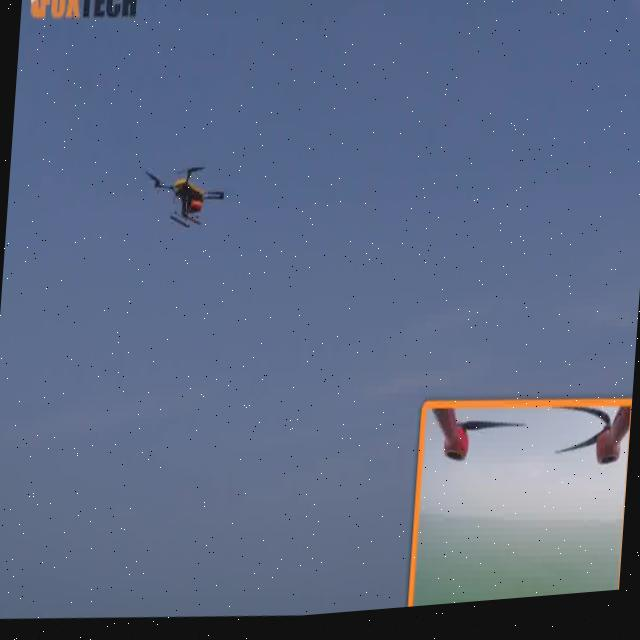drone: (136, 139, 236, 254)
